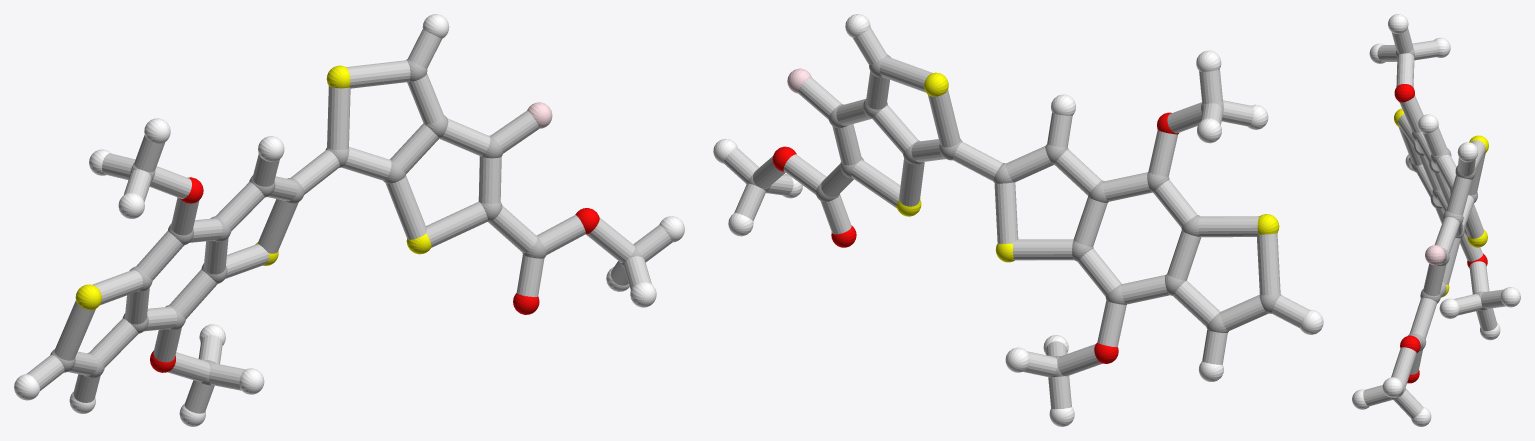
File: Dimethoxy_Benzodithiophene_Phi_15_Theta_320_Methylcarbonyl_3_Fluoro_Thienothiophene.glb
The picture shows the model from 3 angles, left to right: view 1: azimuth 30°, elevation 25°; view 2: azimuth 150°, elevation 25°; view 3: azimuth 270°, elevation 25°; orthographic projection. The views are drawn at different scales.
Parts seen in each view (by area): view 1: grp15205, grp8689, grp1, grp7241, grp13395; view 2: grp15205, grp8689, grp1, grp7241, grp13395; view 3: grp15205, grp8689, grp1, grp13395, grp7241, grp14843.
Boxes of the visible parts, left/top/right/bottom form: grp15205: left=26, top=29, right=672, bottom=413; grp8689: left=14, top=14, right=684, bottom=426; grp1: left=50, top=59, right=642, bottom=385; grp7241: left=75, top=65, right=431, bottom=310; grp13395: left=150, top=177, right=599, bottom=372; grp15205: left=723, top=27, right=1309, bottom=409; grp8689: left=713, top=14, right=1323, bottom=426; grp1: left=747, top=54, right=1281, bottom=376; grp7241: left=896, top=72, right=1279, bottom=262; grp13395: left=772, top=112, right=1178, bottom=363; grp15205: left=1363, top=28, right=1505, bottom=418; grp8689: left=1352, top=14, right=1520, bottom=426; grp1: left=1390, top=48, right=1486, bottom=399; grp13395: left=1394, top=84, right=1487, bottom=383; grp7241: left=1394, top=108, right=1488, bottom=297; grp14843: left=1425, top=245, right=1445, bottom=265.
Bounding box in the file's own units: 17.04 × 9.3 × 4.93.
